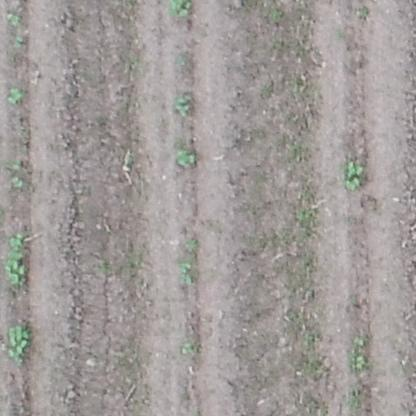vc: (3, 230, 26, 289), (6, 325, 29, 362), (343, 158, 364, 191), (175, 146, 198, 170), (171, 93, 193, 118), (176, 261, 195, 285), (168, 1, 192, 17), (6, 84, 23, 104), (350, 354, 367, 371), (11, 34, 28, 50), (180, 340, 197, 355), (5, 11, 21, 26), (10, 175, 25, 189), (352, 334, 368, 347)
